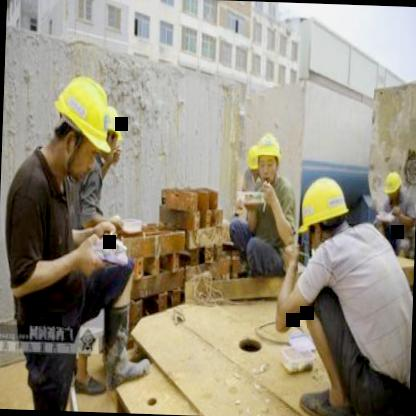helmet: (46, 63, 119, 184), (296, 166, 355, 264), (257, 127, 284, 188), (101, 108, 123, 169), (382, 163, 410, 208), (244, 143, 262, 188)
